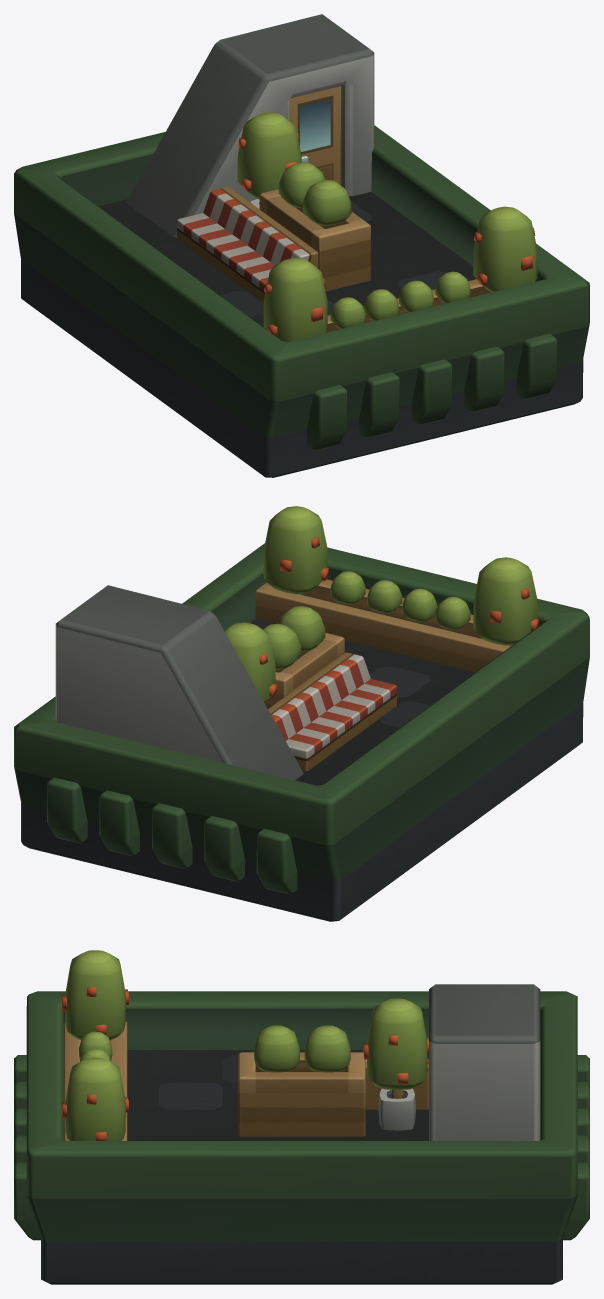
File: appartment_type1_roof_type2_flat_brown_deco.fbx
3 renders of one model, top to bottom at view 1: azimuth 30°, elevation 25°; view 2: azimuth 150°, elevation 25°; view 3: azimuth 270°, elevation 25°, orthographic. The views are drawn at different scales.
Parts seen in each view (by area): view 1: appartment_type1_roof_type2_flat_brown_deco, door_wood_rooftop_doorway; view 2: appartment_type1_roof_type2_flat_brown_deco; view 3: appartment_type1_roof_type2_flat_brown_deco.
Boxes of the visible parts, x1=… form: appartment_type1_roof_type2_flat_brown_deco: x1=14, y1=14, x2=589, y2=477; door_wood_rooftop_doorway: x1=290, y1=86, x2=341, y2=185; appartment_type1_roof_type2_flat_brown_deco: x1=14, y1=506, x2=589, y2=921; appartment_type1_roof_type2_flat_brown_deco: x1=14, y1=950, x2=589, y2=1284.
Bounding box in the file's own units: 610 × 410 × 907.
